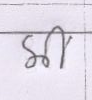i_matra: (50, 26, 71, 68)
